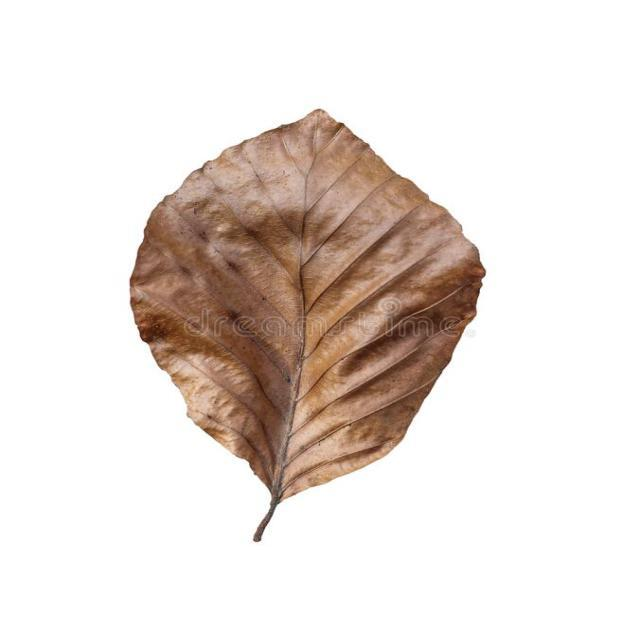leaf: (128, 107, 486, 542)
